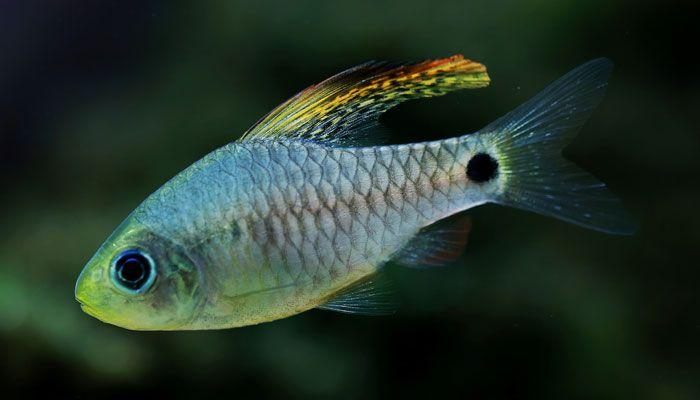Black Spotted Barb: (75, 55, 650, 334)
